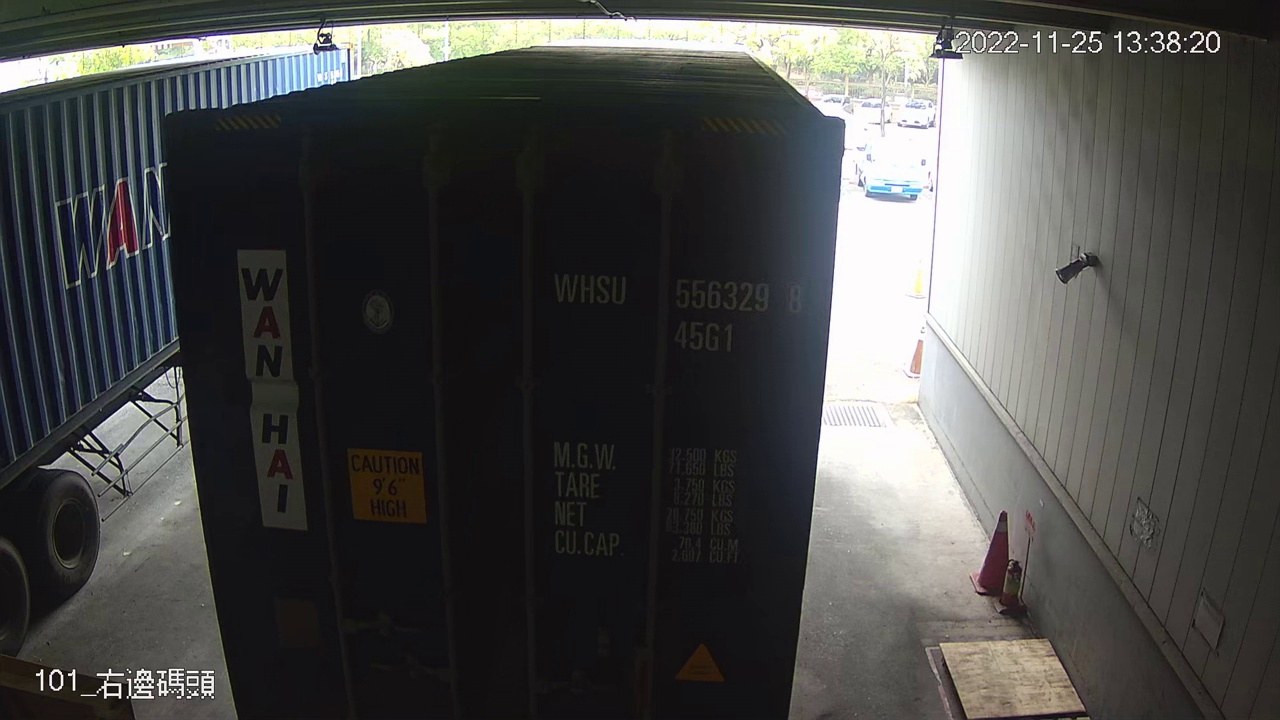container: (543, 259, 814, 370)
